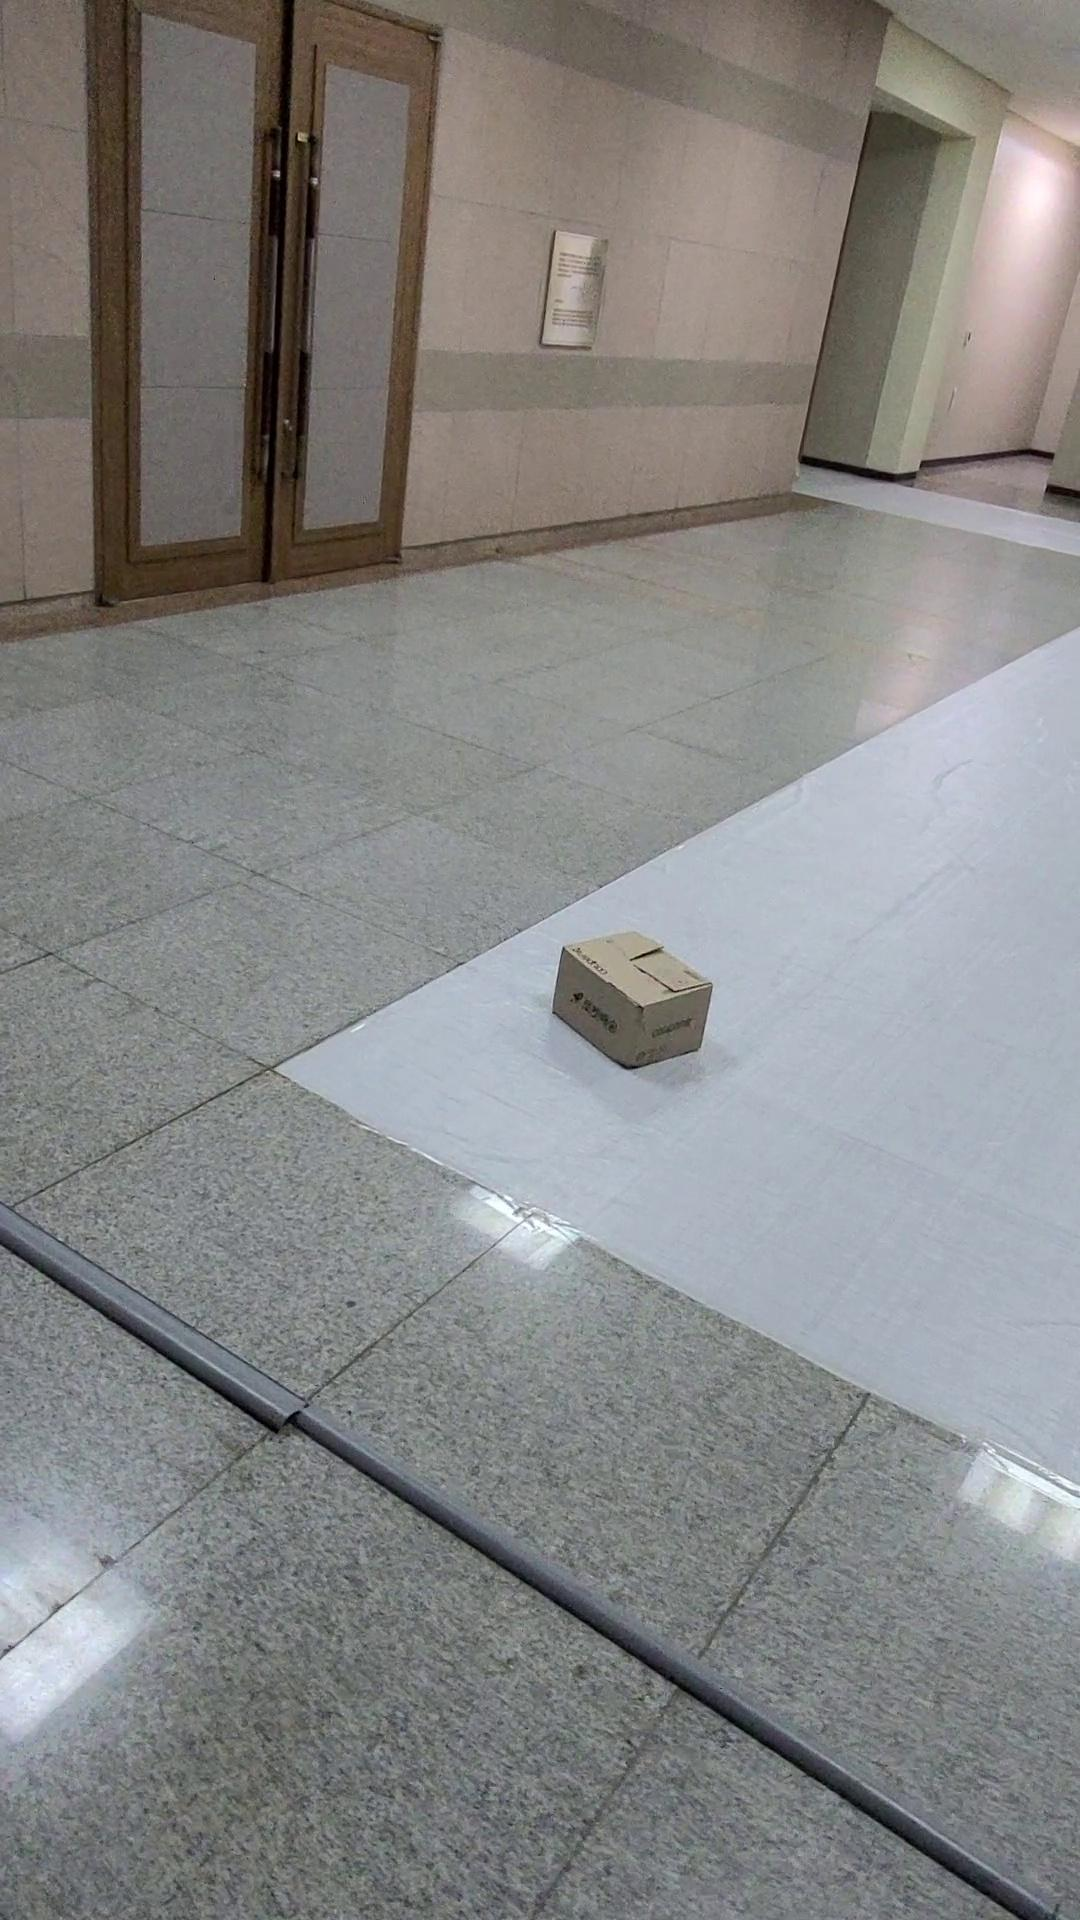Box: (531, 876, 720, 1083)
